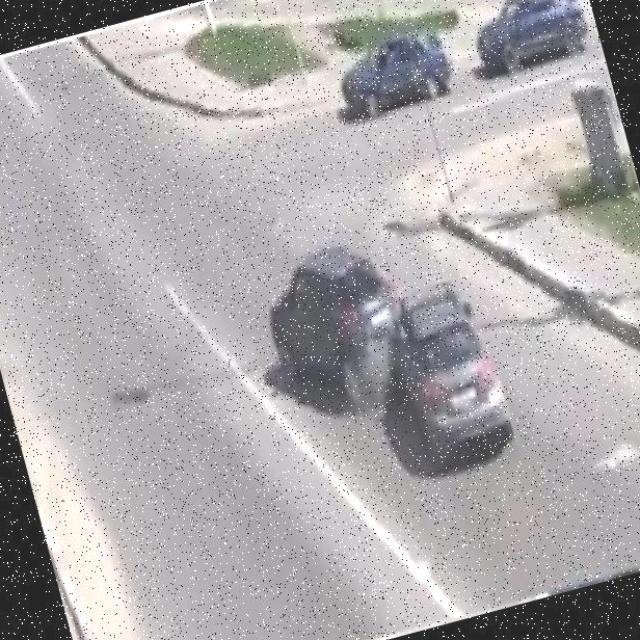accident: (242, 199, 528, 505)
